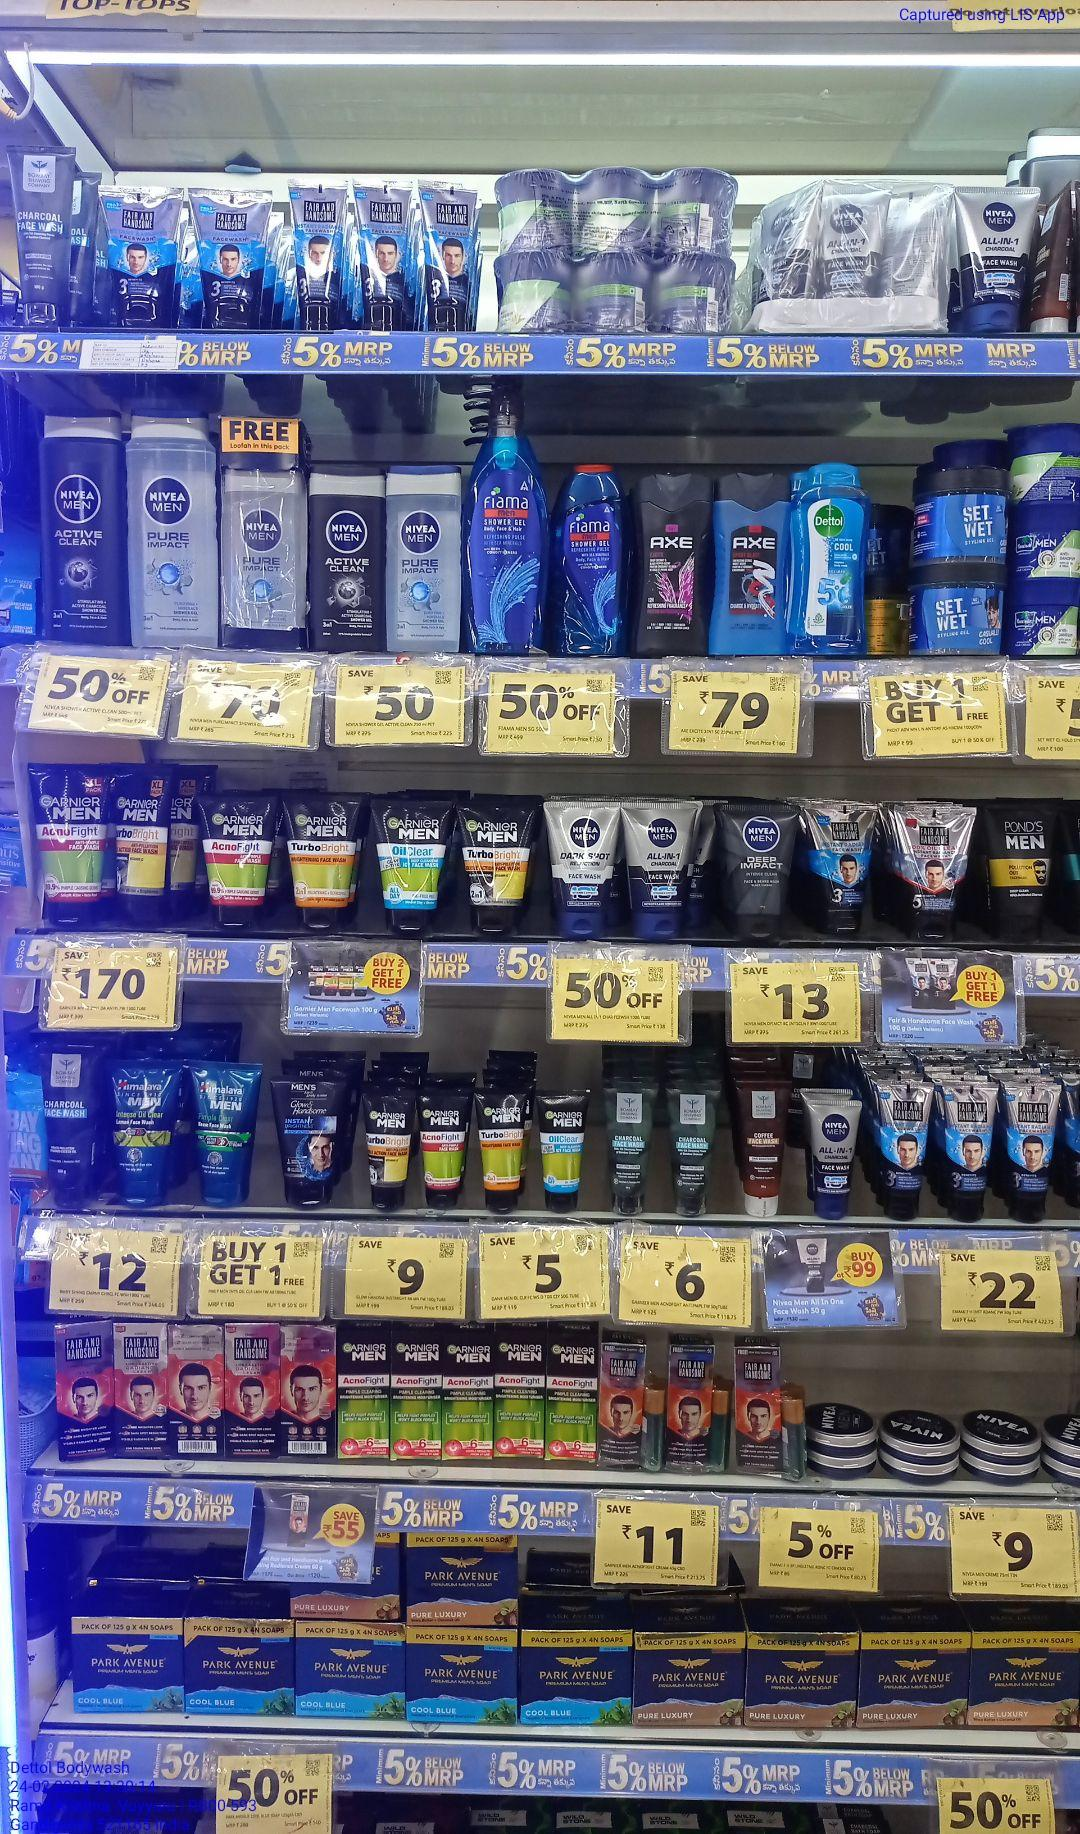Dettol_Bodywash_Cool: (793, 461, 867, 657)
